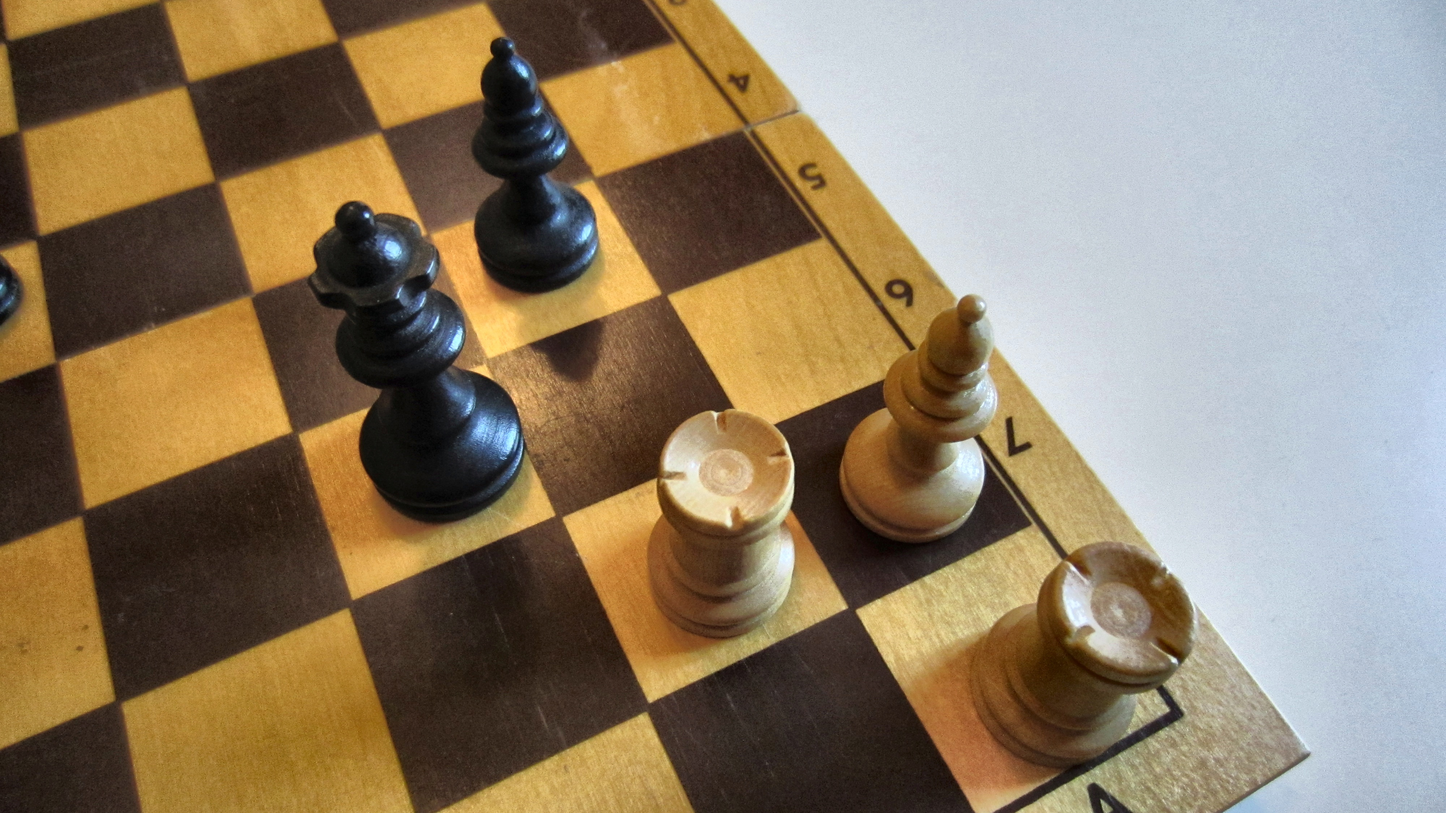black-bishop: (470, 35, 601, 294)
black-queen: (307, 198, 529, 519)
white-bishop: (838, 292, 998, 546)
white-rook: (970, 541, 1199, 769), (642, 406, 796, 642)
